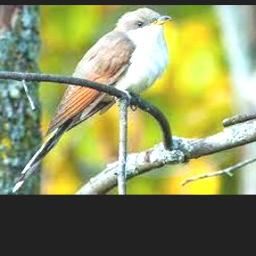Cuckoo: (9, 7, 171, 195)
